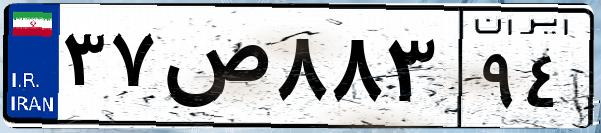3: (385, 28, 445, 110), (57, 26, 110, 100)
4: (525, 38, 570, 115)
7: (110, 28, 158, 98)
8: (270, 28, 330, 110), (330, 28, 385, 110)
9: (475, 38, 525, 113)
ص: (158, 20, 270, 120)
